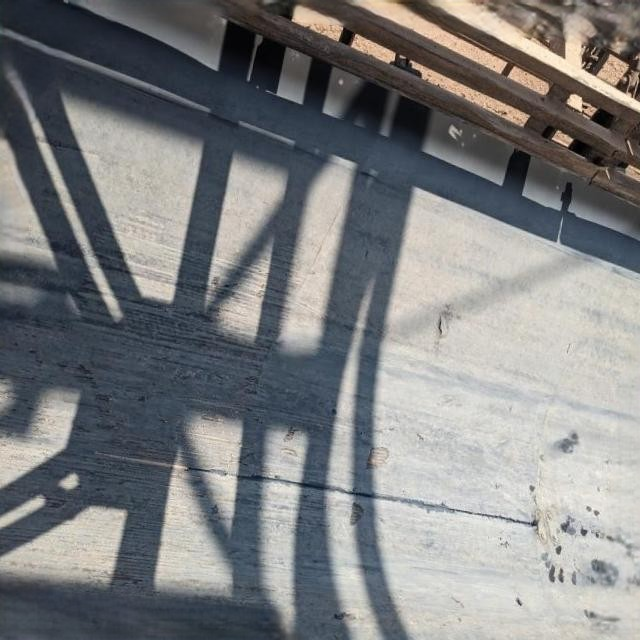Puncture: (330, 610, 350, 622), (557, 568, 565, 584), (560, 520, 570, 532), (571, 570, 578, 586), (580, 528, 588, 537), (567, 528, 576, 536), (541, 552, 548, 562), (556, 544, 562, 554), (584, 609, 590, 618), (516, 598, 522, 606), (594, 510, 600, 516)
Tear: (97, 452, 538, 528), (366, 445, 389, 471), (350, 504, 362, 527), (438, 316, 450, 337), (93, 394, 110, 407), (286, 426, 299, 442), (78, 374, 94, 383), (210, 505, 217, 515)
